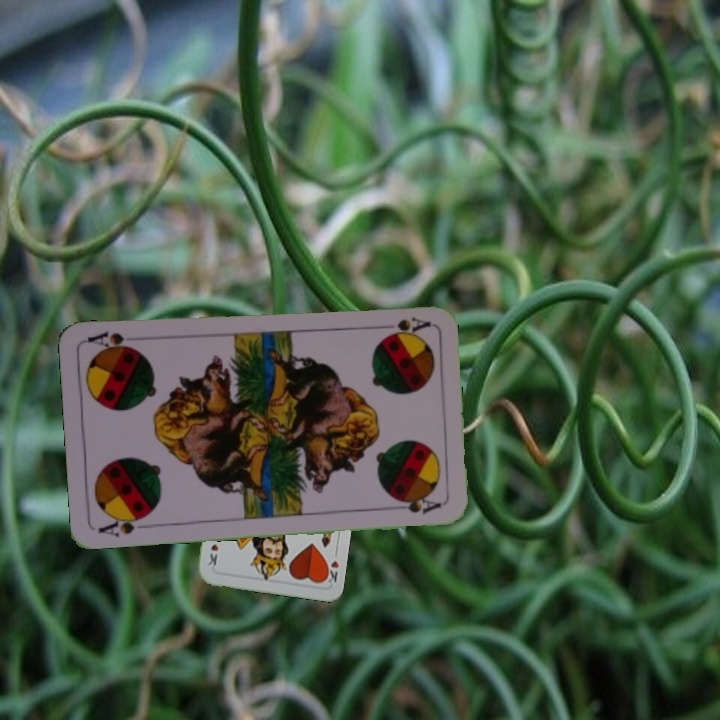HK: (320, 546, 341, 585)
SA: (95, 510, 153, 539), (372, 312, 432, 335)
